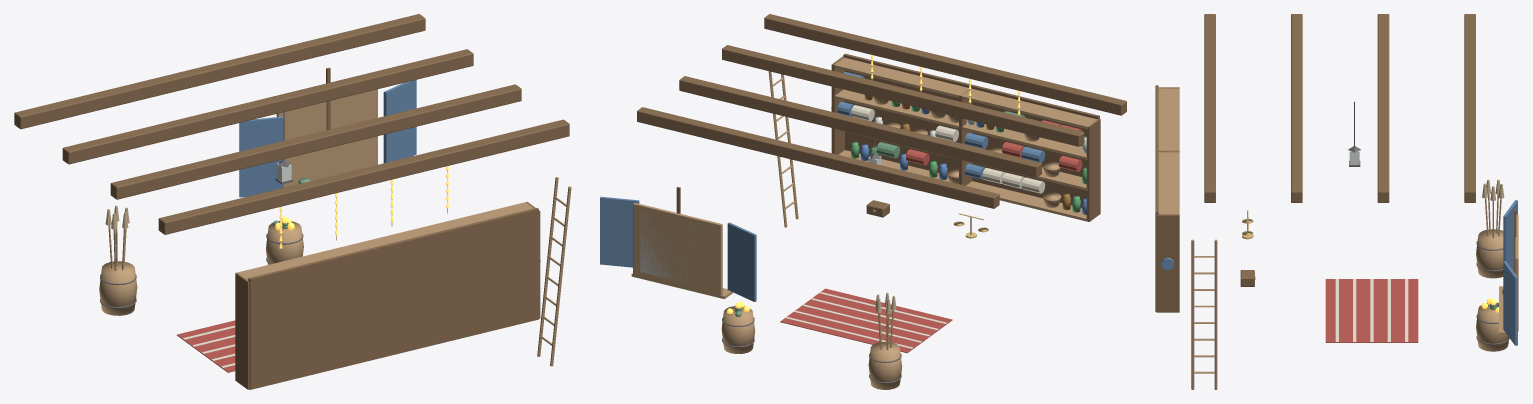
Rendered from store_small_room.glb.
3 renders of one model, left to right at view 1: azimuth 30°, elevation 25°; view 2: azimuth 150°, elevation 25°; view 3: azimuth 270°, elevation 25°, orthographic. The views are drawn at different scales.
Parts seen in each view (by area): view 1: store_small_room; view 2: store_small_room; view 3: store_small_room.
Part boxes in pixels (left/top/right/bottom): store_small_room: left=14, top=14, right=571, bottom=389; store_small_room: left=600, top=14, right=1126, bottom=389; store_small_room: left=1155, top=14, right=1518, bottom=389.
Size of the model in its own units: 7.64 by 4 by 6.29.
